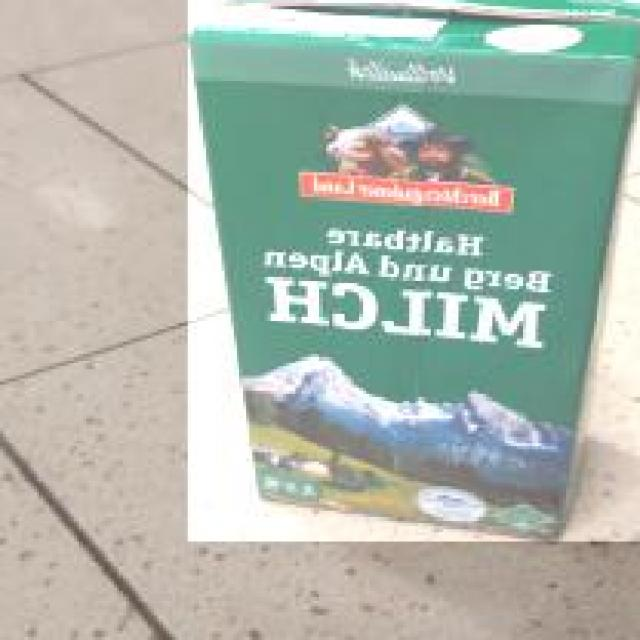milk: (185, 0, 640, 544)
